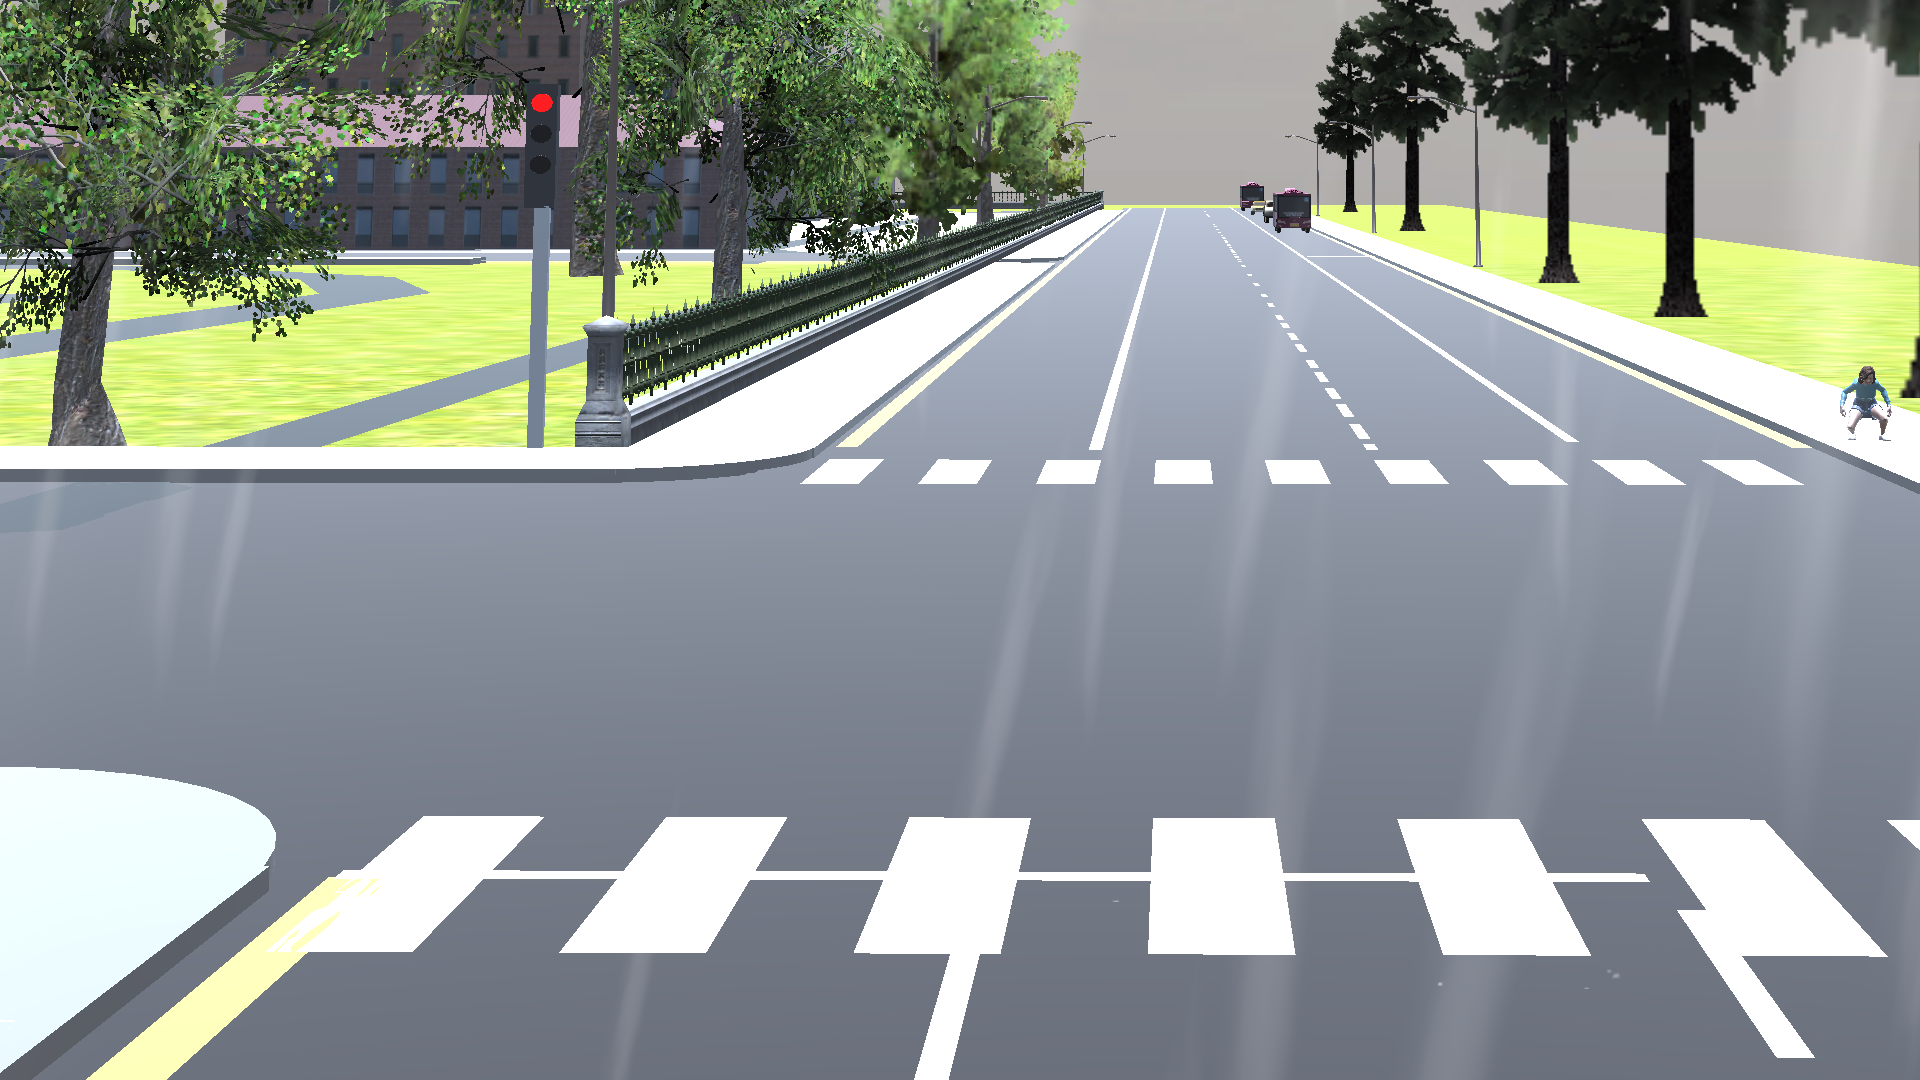pedestrian: (1829, 349, 1897, 446)
